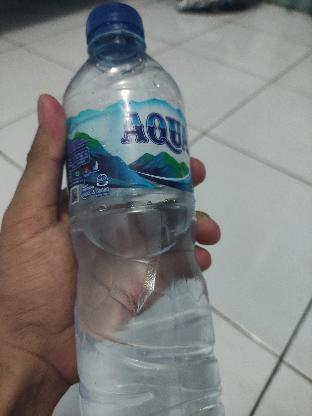Plastic Bottle: (48, 0, 238, 416)
